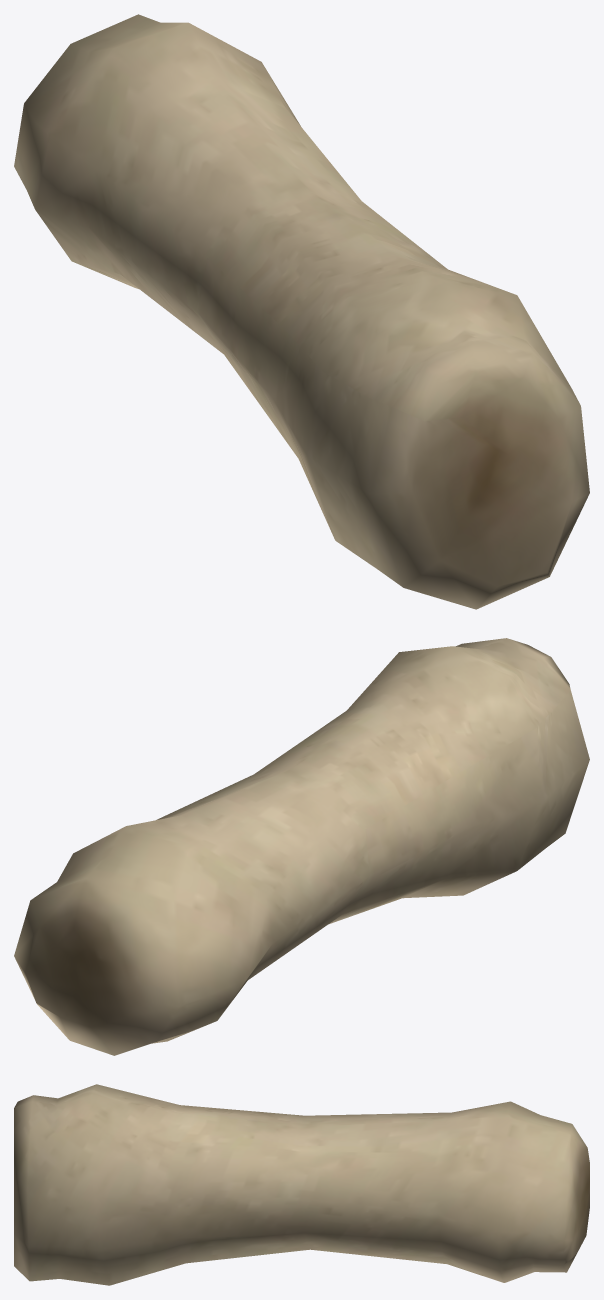
Rendered from Caudal_Vertebrae12.glb.
3 renders of one model, top to bottom at view 1: azimuth 30°, elevation 25°; view 2: azimuth 150°, elevation 25°; view 3: azimuth 270°, elevation 25°, orthographic. The views are drawn at different scales.
Parts seen in each view (by area): view 1: Caudal_Vertebrae_31:Group52900; view 2: Caudal_Vertebrae_31:Group52900; view 3: Caudal_Vertebrae_31:Group52900.
Boxes of the visible parts, <box> form: Caudal_Vertebrae_31:Group52900: <box>14,14,589,609</box>; Caudal_Vertebrae_31:Group52900: <box>14,638,589,1055</box>; Caudal_Vertebrae_31:Group52900: <box>14,1084,589,1285</box>.
Bounding box in the file's own units: 7 × 6.34 × 18.13.
Materials: 1 (1 with a texture image).
